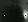person: (24, 10, 28, 20)
